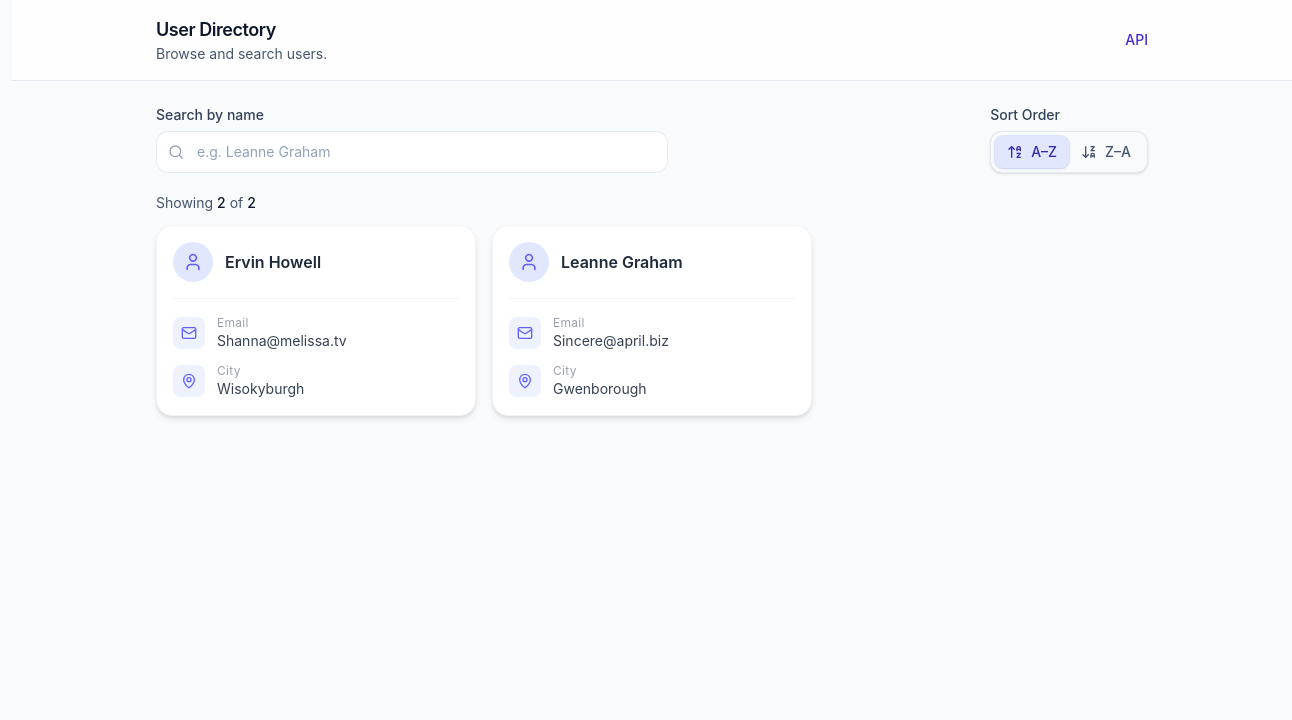
Test: App Integration › should fetch users and render them, then update URL and filter when searching
The image size is (1292, 720).
Check: the text "Leanne Graham" is shown, box x1=561 y1=250 x2=683 y2=274
Check: the text "Ervin Howell" is shown, box x1=225 y1=250 x2=321 y2=274
Step 1. Type "Ervin" into the field with placeholder "e.g. Leanne Graham" → (412, 152), box x1=156 y1=131 x2=668 y2=173
(page scrolled)
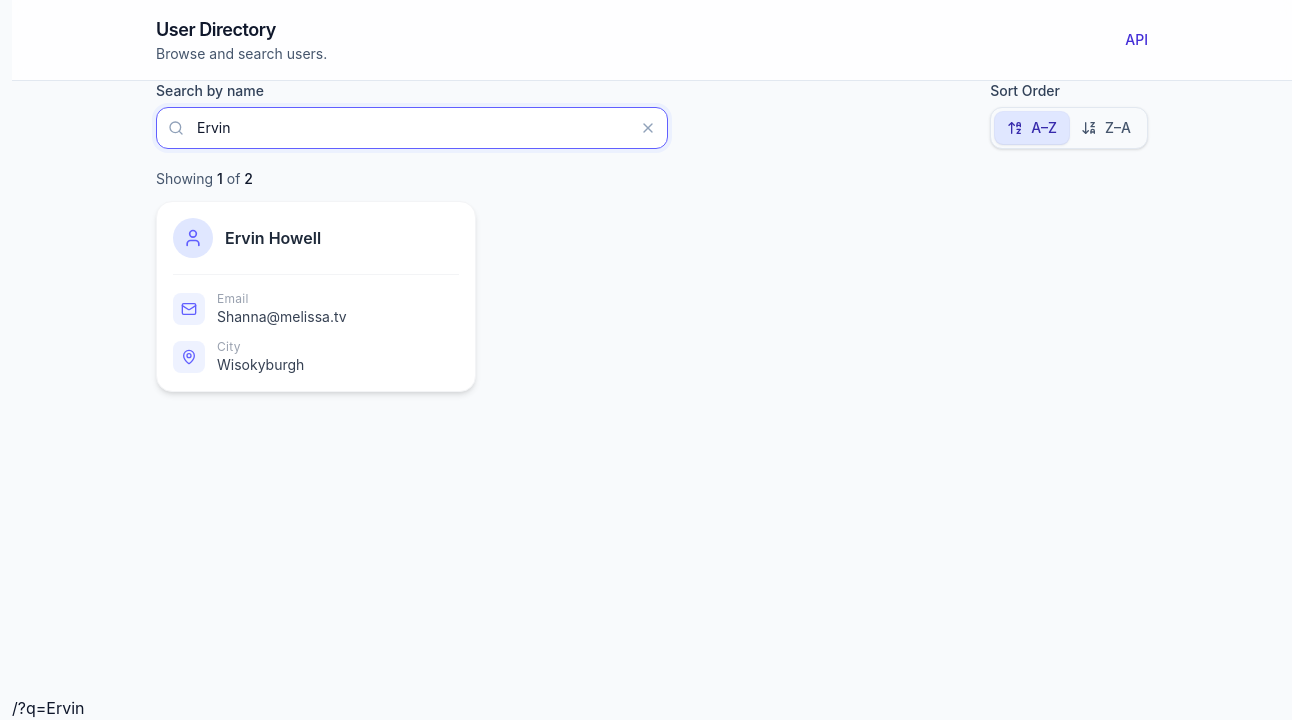
Check: the text "Ervin Howell" is shown, box x1=225 y1=226 x2=321 y2=250
Check: the button "Leanne Graham" is gone
Check: the text with test id "location-display" reads "/?q=Ervin", box x1=18 y1=698 x2=85 y2=718
